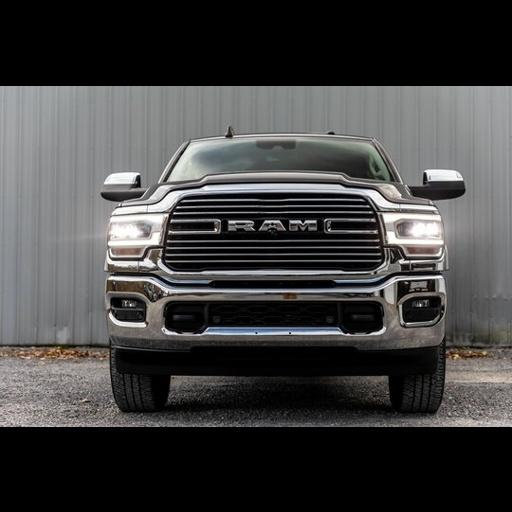truck: (102, 128, 464, 412)
